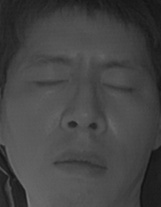blink: (27, 69, 72, 95), (101, 73, 137, 101)
mouth: (48, 142, 113, 181)
